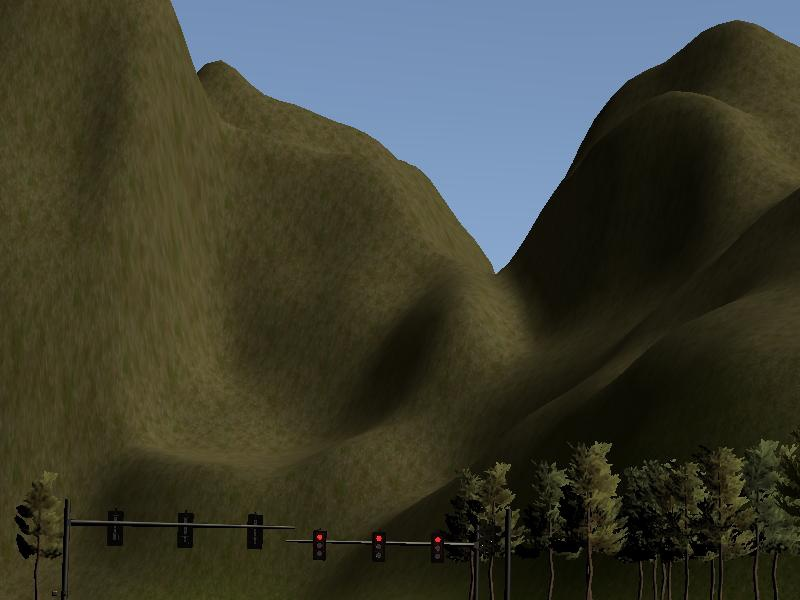red_light: (371, 530, 385, 560), (314, 530, 327, 559), (433, 532, 446, 561)
